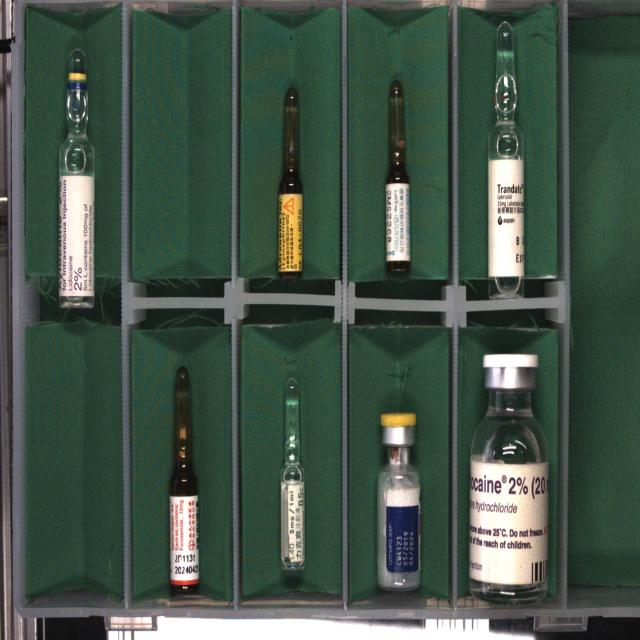Vials: (469, 354, 549, 604), (377, 413, 420, 591)
